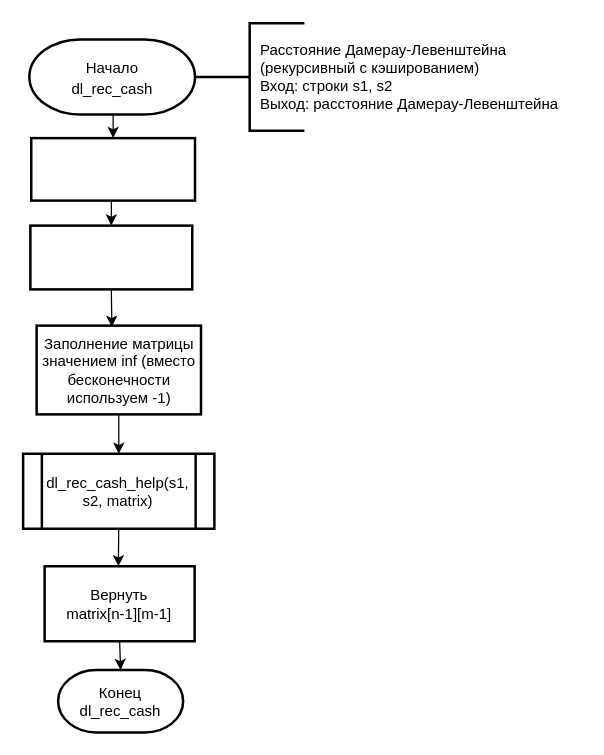
The diagram is 604 pixels wide and 755 high, and some of its shapes have lost their labels. The shapes that lost their labels are listed below. From the top down, each one's box as (x1, y1, x2, y2) in pixels, then its label:
(29, 136, 196, 201): n = length(s1) + 1 m = length(s2) + 1
(28, 224, 193, 290): Создание матрицы
